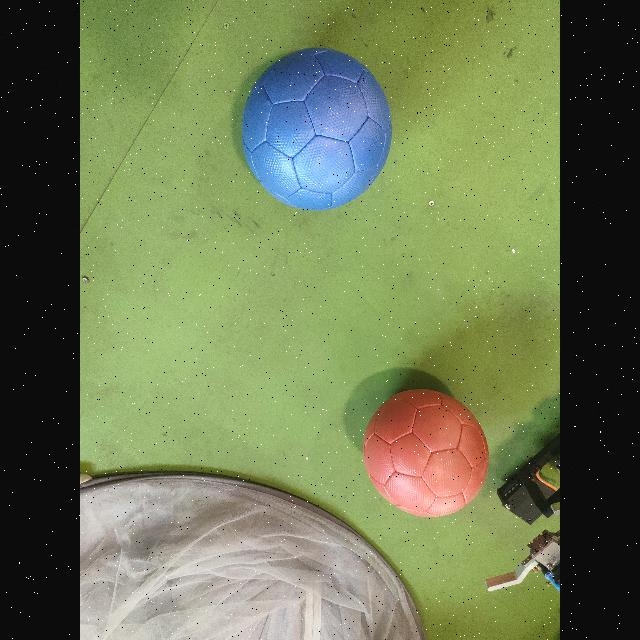B: (244, 50, 394, 212)
R: (363, 388, 489, 518)
